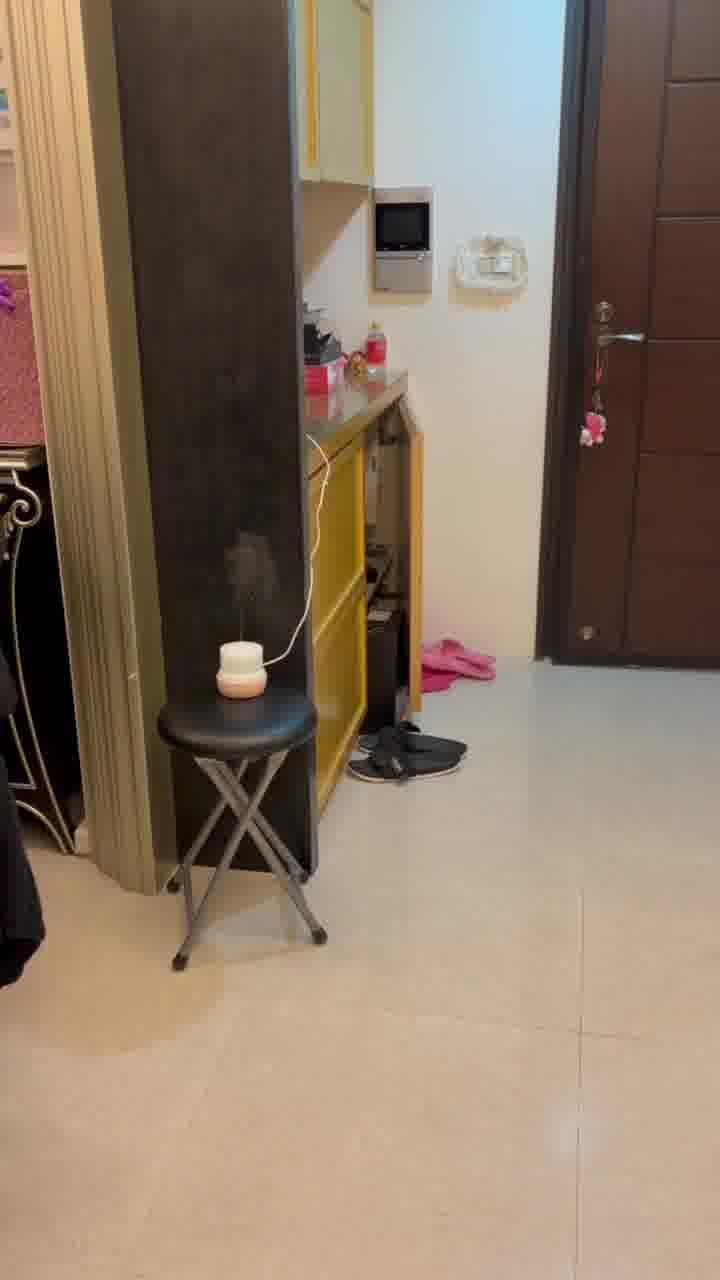smoke: (219, 523, 289, 626)
